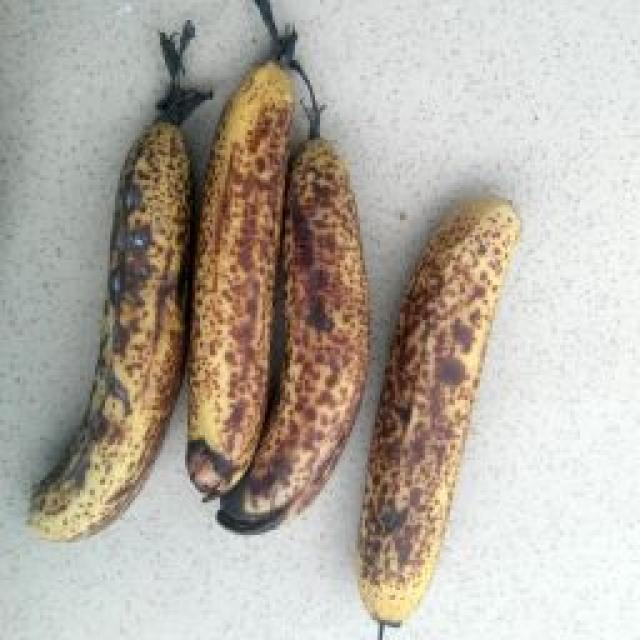banana: (105, 62, 567, 529)
